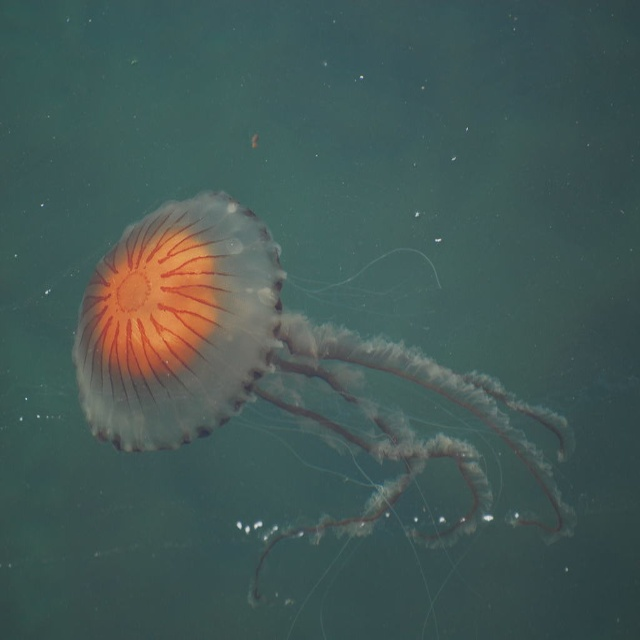Jellyfish: (70, 190, 581, 640)
